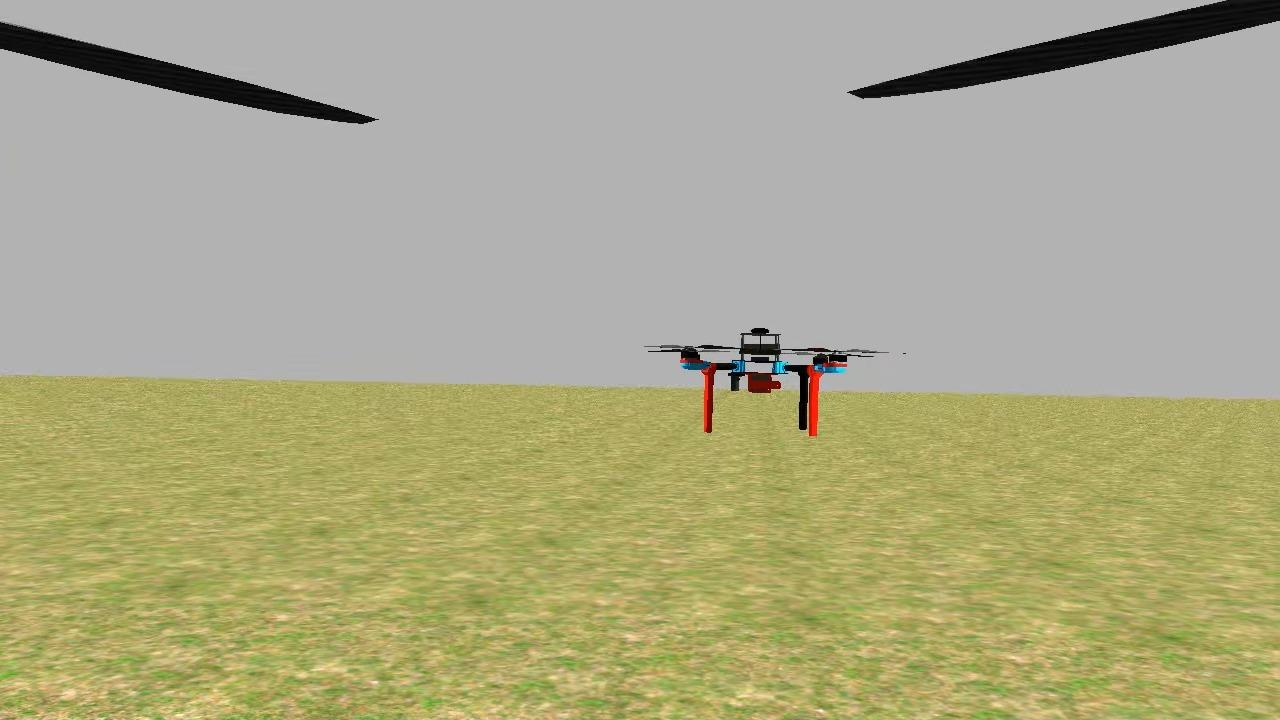UAV: (654, 314, 867, 443)
